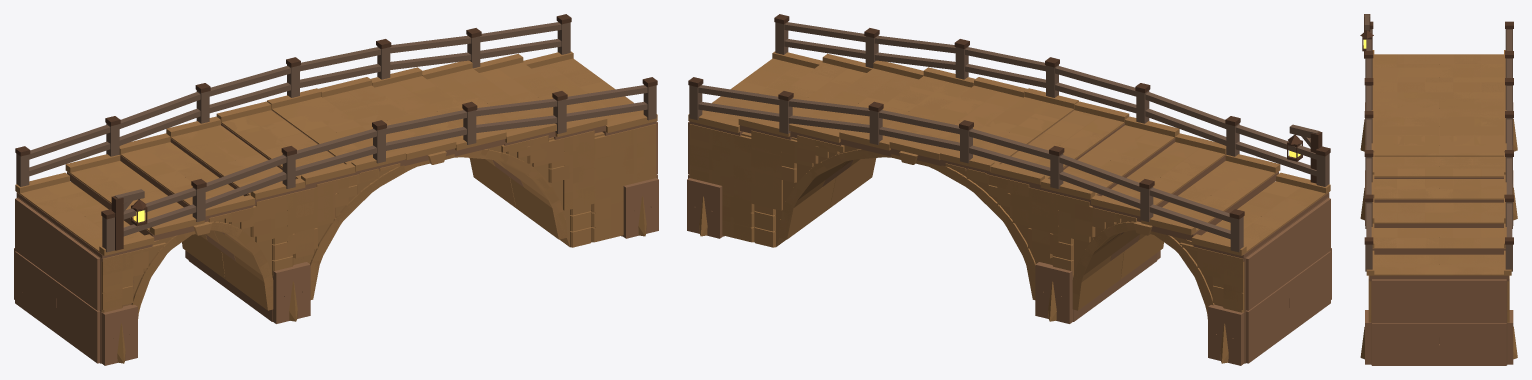
Rendered from bridge_stone_a.glb.
The picture shows the model from 3 angles, left to right: view 1: azimuth 30°, elevation 25°; view 2: azimuth 150°, elevation 25°; view 3: azimuth 270°, elevation 25°; orthographic projection. The views are drawn at different scales.
Visible parts, largest first — view 1: bridge_stone_a_LOD0_bridge, bridge_stone_a_LOD1_bridge, bridge_stone_a_LOD2_bridge; view 2: bridge_stone_a_LOD0_bridge, bridge_stone_a_LOD1_bridge, bridge_stone_a_LOD2_bridge; view 3: bridge_stone_a_LOD0_bridge, bridge_stone_a_LOD1_bridge, bridge_stone_a_LOD2_bridge.
Boxes of the visible parts, <box> form: bridge_stone_a_LOD0_bridge: <box>14,14,658,365</box>; bridge_stone_a_LOD1_bridge: <box>14,15,658,365</box>; bridge_stone_a_LOD2_bridge: <box>14,60,658,365</box>; bridge_stone_a_LOD0_bridge: <box>687,14,1331,365</box>; bridge_stone_a_LOD1_bridge: <box>687,14,1331,365</box>; bridge_stone_a_LOD2_bridge: <box>687,60,1331,365</box>; bridge_stone_a_LOD0_bridge: <box>1360,14,1517,365</box>; bridge_stone_a_LOD1_bridge: <box>1362,14,1513,365</box>; bridge_stone_a_LOD2_bridge: <box>1365,54,1513,365</box>.
Bounding box in the file's own units: 14.37 × 4.26 × 4.29.
